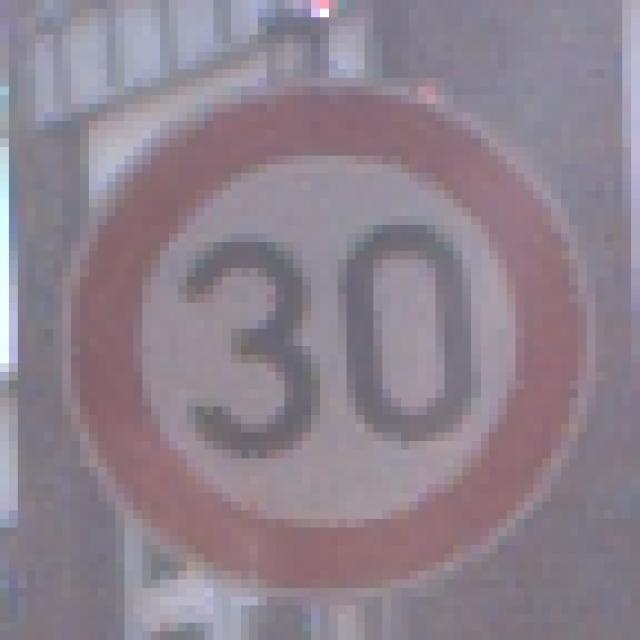Speed Limit -30-: (49, 48, 582, 576)
